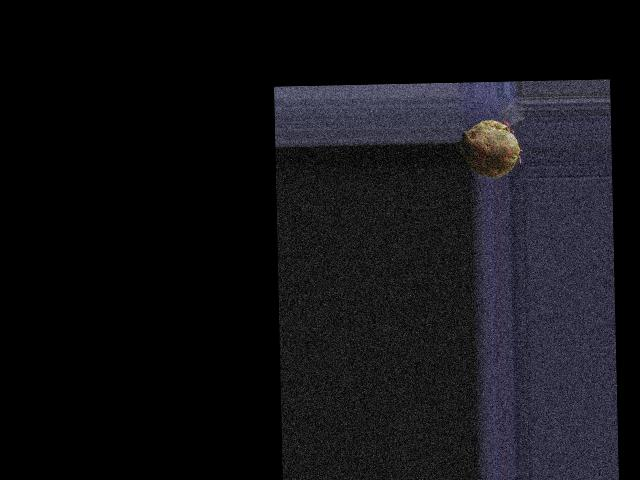beet: (459, 119, 522, 178)
